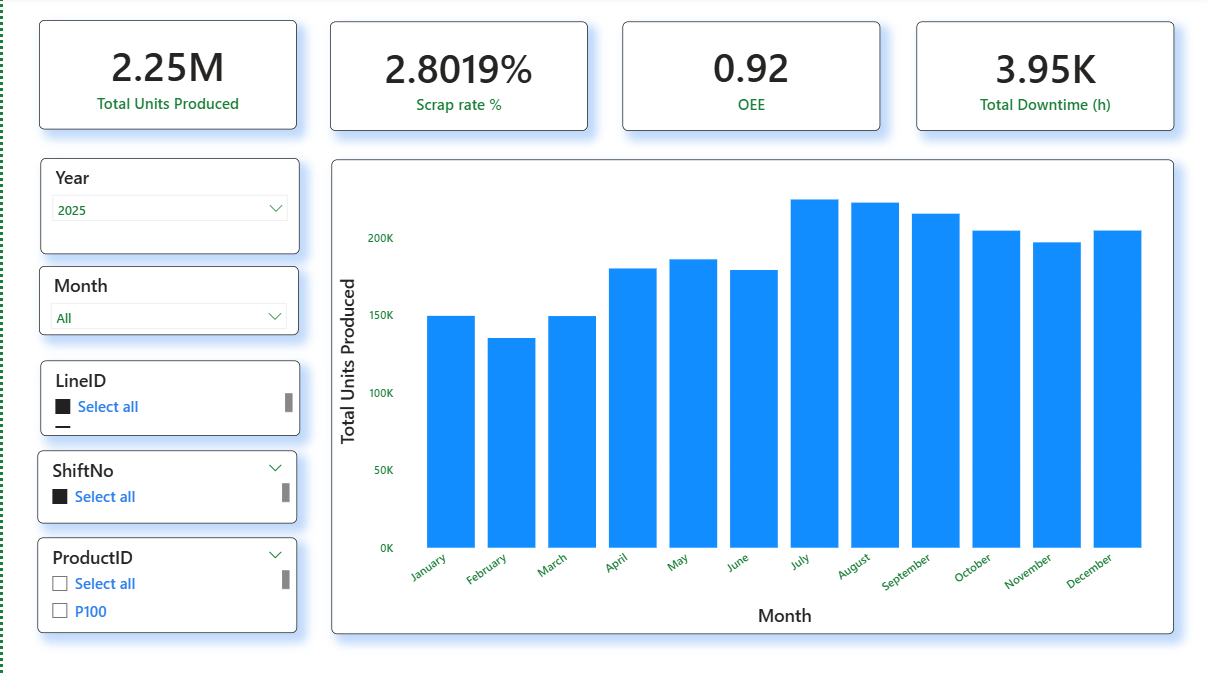

What the dashboard file says about the page in this screenshot:
{"tool":"powerbi","page":{"name":"TUP","canvas":[1280,720],"ordinal":0},"visuals":[{"type":"card","fields":{"Values":["Measures_Plant.Total Units Produced"]},"box":[37.5,25.4,273.6,115.8],"z":0},{"type":"card","fields":{"Values":["Measures_Plant.Scrap rate %"]},"box":[346.8,27,273.6,116.1],"z":1000},{"type":"card","fields":{"Values":["Measures_Plant.OEE"]},"box":[656.8,27,273.6,115.8],"z":2000},{"type":"card","fields":{"Values":["Measures_Plant.Total Downtime (h)"]},"box":[968.7,27,273.6,116.1],"z":3000},{"type":"lineStackedColumnComboChart","fields":{"Category":["Calendar.Month"],"Y":["Measures_Plant.Total Units Produced"]},"box":[348.3,173.3,893.3,503.3],"z":4000},{"type":"slicer","fields":{"Values":["Calendar.Year"]},"box":[40,171.2,274.4,101.8],"z":5000},{"type":"slicer","fields":{"Values":["Calendar.Month"]},"box":[38,287,275,73],"z":6000},{"type":"slicer","fields":{"Values":["Production_Log.LineID"]},"box":[39,386,275,80],"z":7000},{"type":"slicer","fields":{"Values":["Production_Log.ShiftNo"]},"box":[37,482,275,77],"z":8000},{"type":"slicer","fields":{"Values":["Production_Log.ProductID"]},"box":[37,575,275,101],"z":9000}]}

Visuals, with their boxes in screenshot pixels (x1, y1, x2, y2), scaled from the page's 1280x720 canvas onto the 1218x676 screenshot:
card - Measures_Plant.Total Units Produced: detection(36, 24, 296, 133)
card - Measures_Plant.Scrap rate %: detection(330, 25, 590, 134)
card - Measures_Plant.OEE: detection(625, 25, 885, 134)
card - Measures_Plant.Total Downtime (h): detection(922, 25, 1182, 134)
lineStackedColumnComboChart - Calendar.Month x Measures_Plant.Total Units Produced: detection(331, 163, 1181, 635)
slicer - Calendar.Year: detection(38, 161, 299, 256)
slicer - Calendar.Month: detection(36, 269, 298, 338)
slicer - Production_Log.LineID: detection(37, 362, 299, 438)
slicer - Production_Log.ShiftNo: detection(35, 453, 297, 525)
slicer - Production_Log.ProductID: detection(35, 540, 297, 635)
